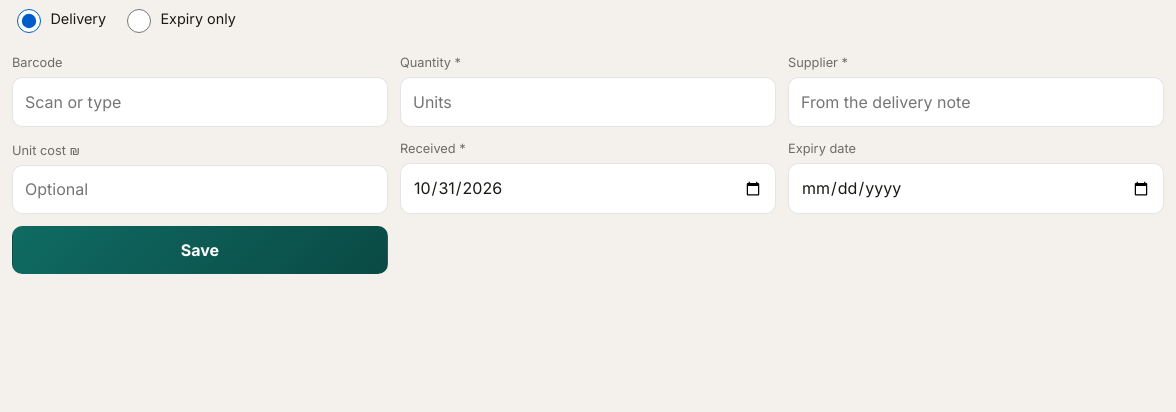
Test: ReceivingCaptureForm — expiry-only mode › records a date for stock already on the shelf, with no supplier invented
The width and height of the screenshot is (1176, 412).
Click the radio button labelled "Expiry only" at (139, 21), box [127,9,151,33]
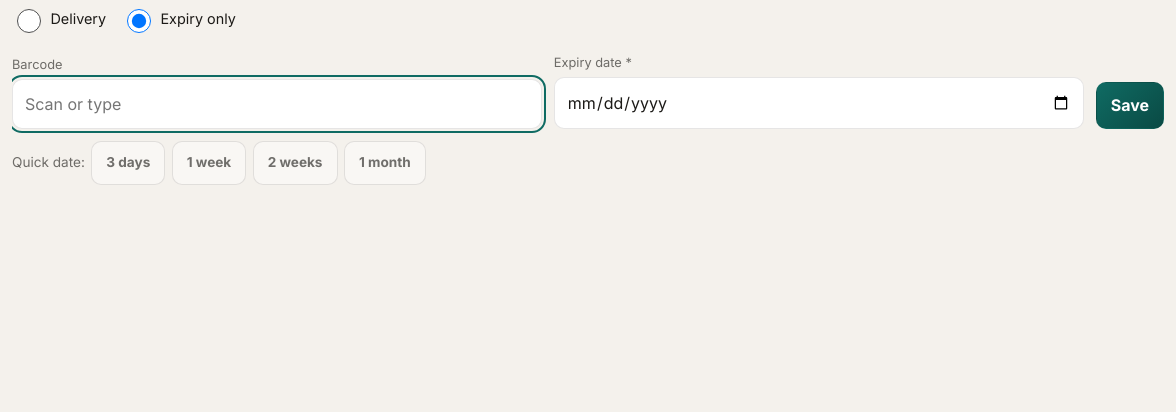
Type "7290000066318" into the field labelled "Barcode" at (277, 104), box [12,79,542,129]
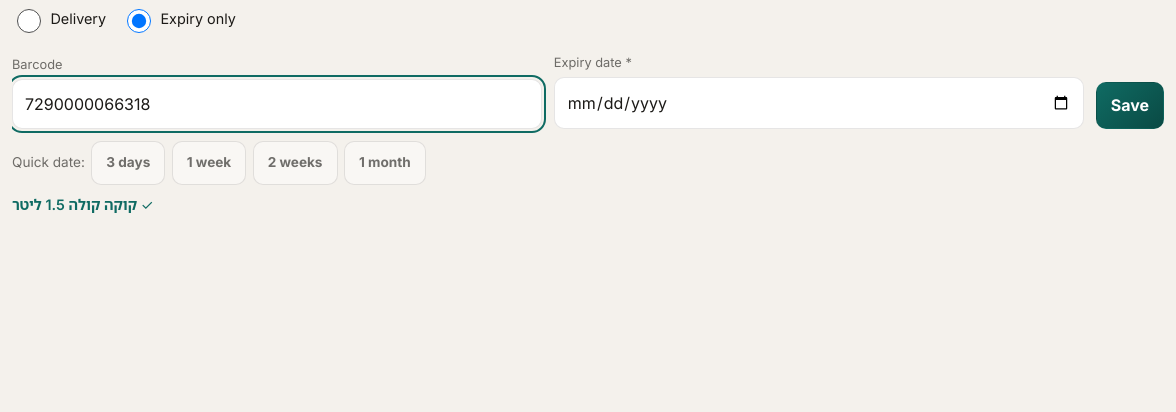
Type "2026-12-31" into the date field labelled "Expiry date *" at (819, 103), box [554,77,1084,129]
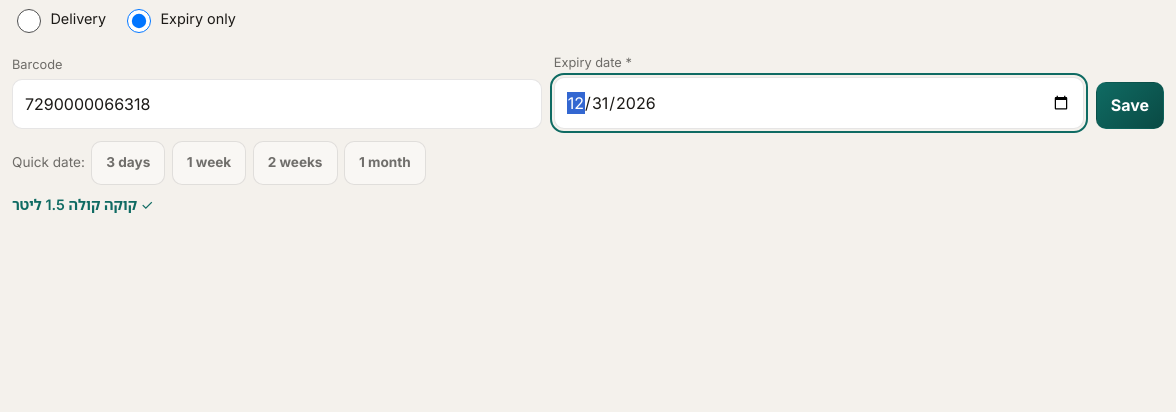
Click the button "Save" at (1130, 105), box [1096,82,1164,129]
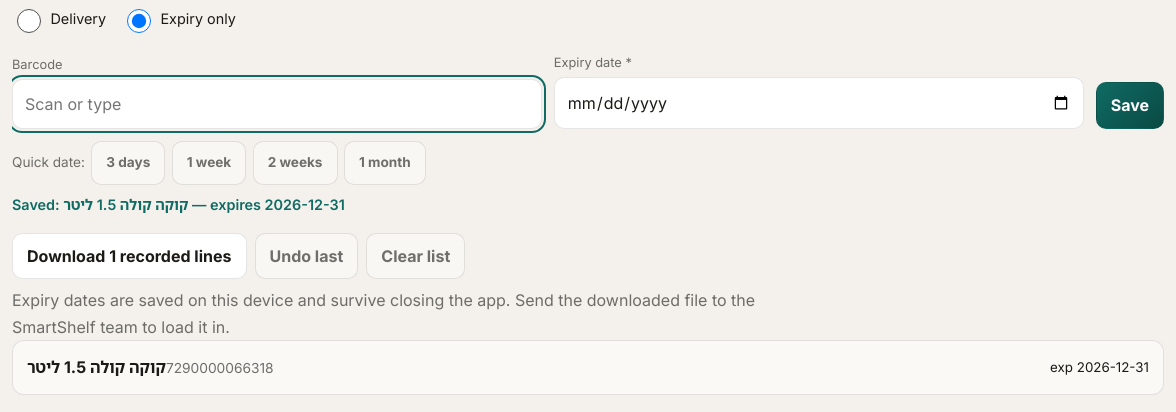
Check: the text "Saved: קוקה קולה 1.5 ליטר — expires 2026-12-31" is shown, box [12,196,345,213]
